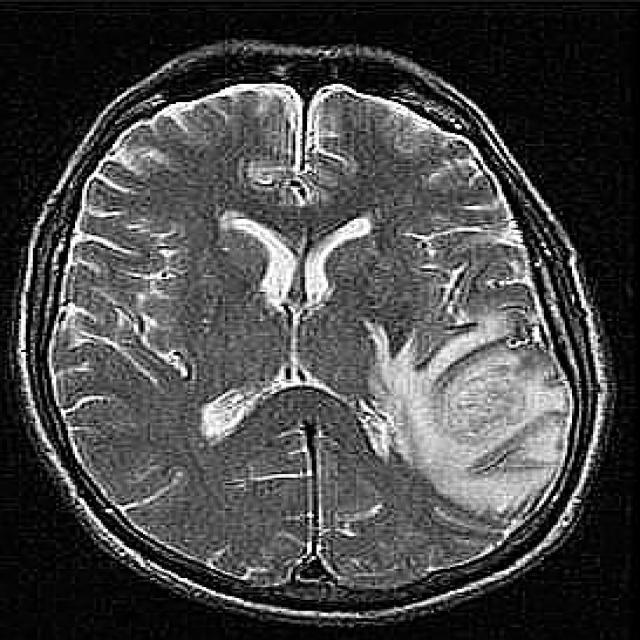Tumor-Cell: (384, 331, 557, 515)
